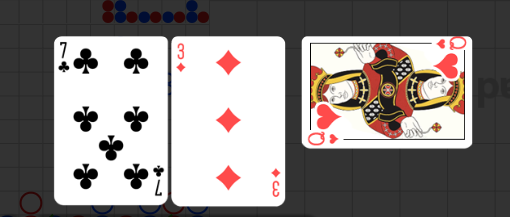3D: (270, 166, 282, 198)
7C: (151, 163, 165, 198)
9H: (435, 36, 468, 52)
